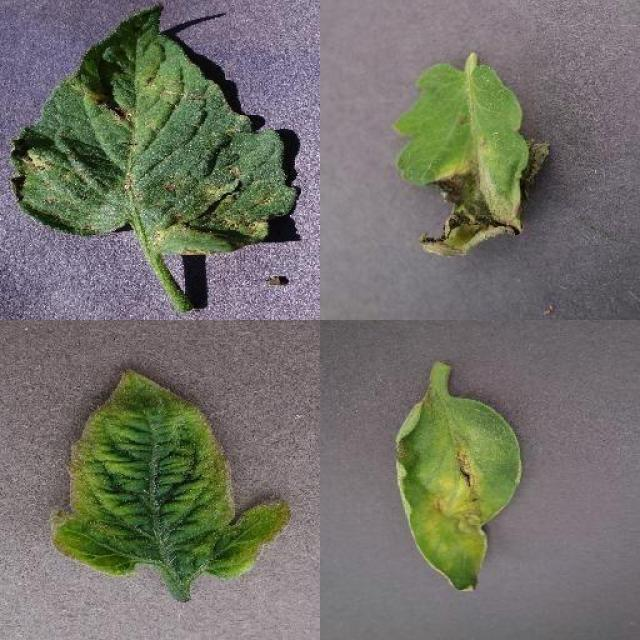Late Blight: (397, 60, 552, 262), (393, 393, 525, 595)
Septoria: (10, 5, 300, 260)
